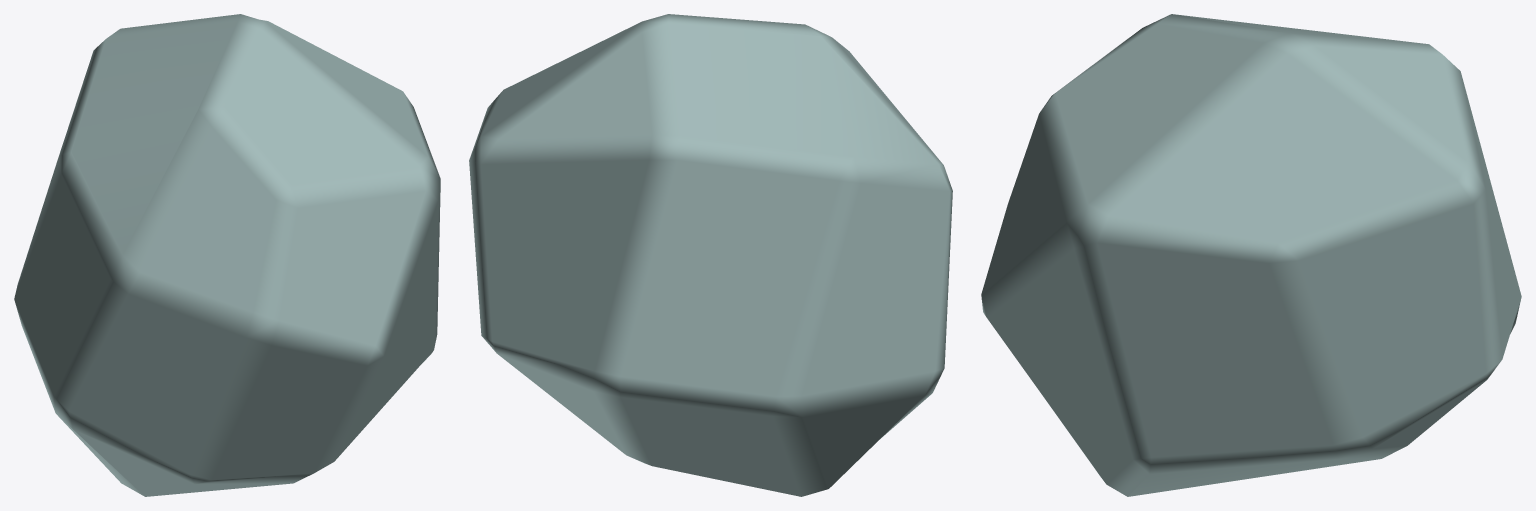
File: ore2notex.fbx
The picture shows the model from 3 angles, left to right: view 1: azimuth 30°, elevation 25°; view 2: azimuth 150°, elevation 25°; view 3: azimuth 270°, elevation 25°; orthographic projection. The views are drawn at different scales.
Parts seen in each view (by area): view 1: ore2notex; view 2: ore2notex; view 3: ore2notex.
Boxes of the visible parts, x1,y1,x2,y2 form: ore2notex: [14, 14, 440, 496]; ore2notex: [469, 14, 952, 496]; ore2notex: [981, 14, 1521, 496].
Size of the model in its own units: 0.4167 by 0.4482 by 0.4432.
